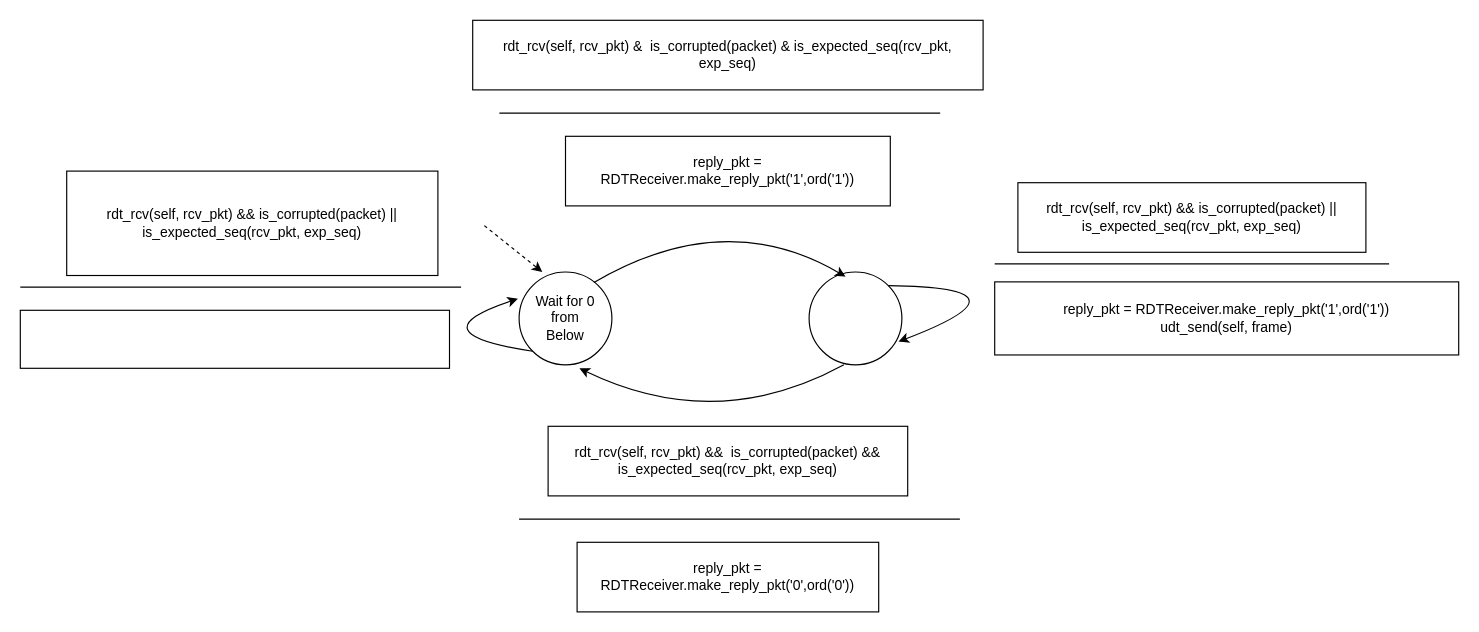
The diagram is 1479 pixels wide and 632 high, and some of its shapes have lost their labels. Here are the shapes that lost their labels. From the top down, the centre of each, then its label:
At point (234, 338): "reply_pkt = RDTReceiver.make_reply_pkt('0',ord('0')) udt_send(self, frame)".
At point (855, 318): "Wait for 1 from Below".
